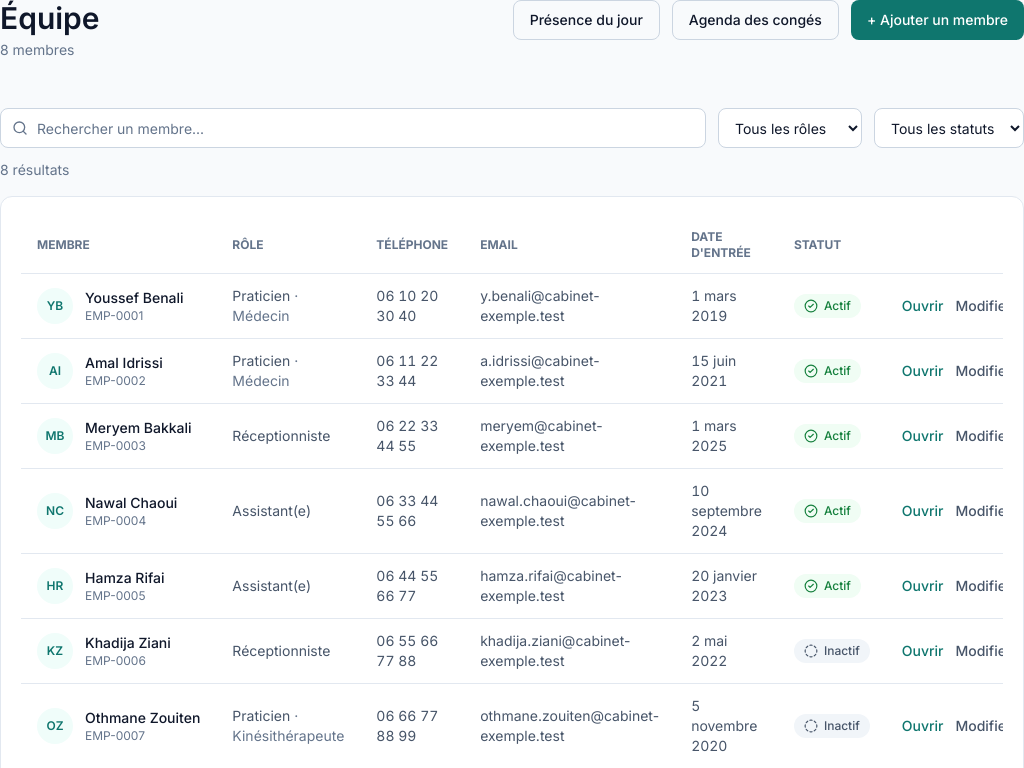
Test: TeamPage › searches by name (4/20)
The width and height of the screenshot is (1024, 768).
Type "Meryem" into the search field at (353, 128), box top-left (0, 108), bottom-right (706, 148)
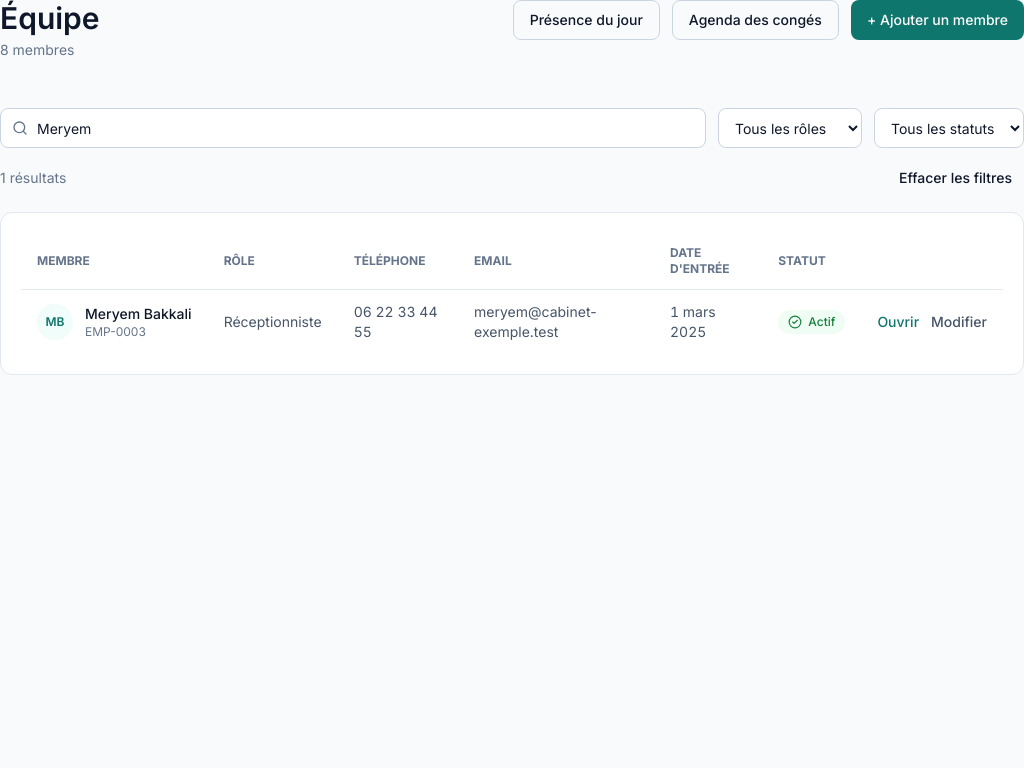
Check: the text "Meryem Bakkali" is shown, box top-left (85, 304), bottom-right (192, 324)
Check: the text "Youssef Benali" is gone
